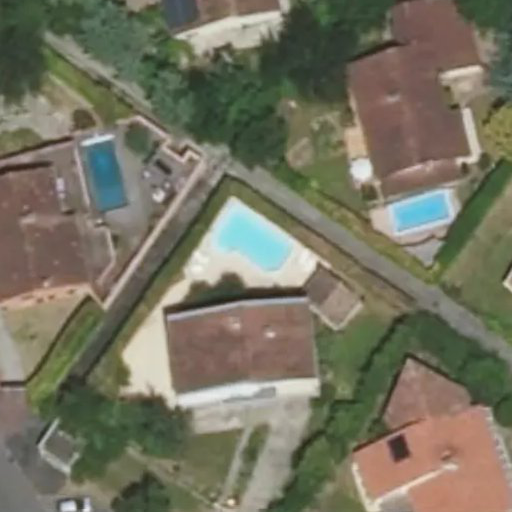pool: (212, 244, 299, 249)
